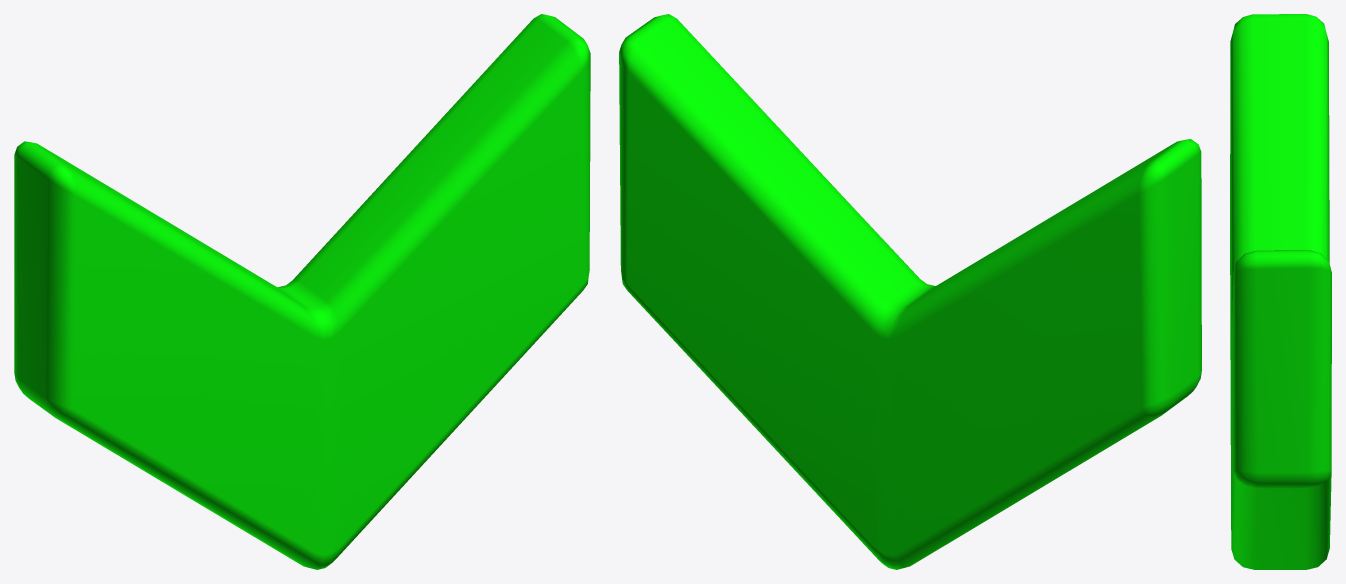
File: Pointing Arrow.fbx
The picture shows the model from 3 angles, left to right: view 1: azimuth 30°, elevation 25°; view 2: azimuth 150°, elevation 25°; view 3: azimuth 270°, elevation 25°; orthographic projection. The views are drawn at different scales.
Visible parts, largest first — view 1: Arrow; view 2: Arrow; view 3: Arrow.
Part boxes in pixels (x1,y1,x2,y2): Arrow: (14,14,590,569); Arrow: (619,14,1201,569); Arrow: (1230,14,1331,569).
Bounding box in the file's own units: 60.3 × 49.56 × 10.49.
